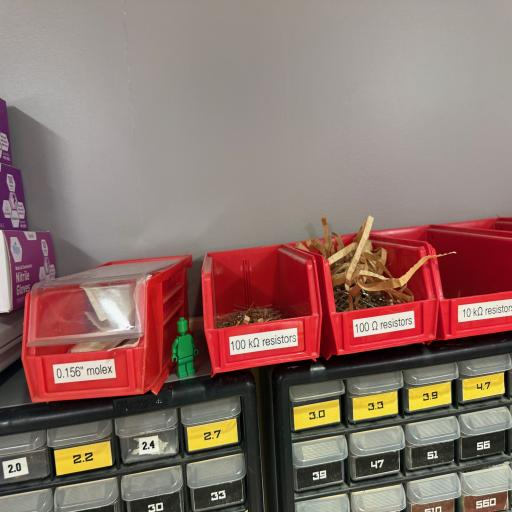Lego-Dude: (172, 317, 198, 378)
